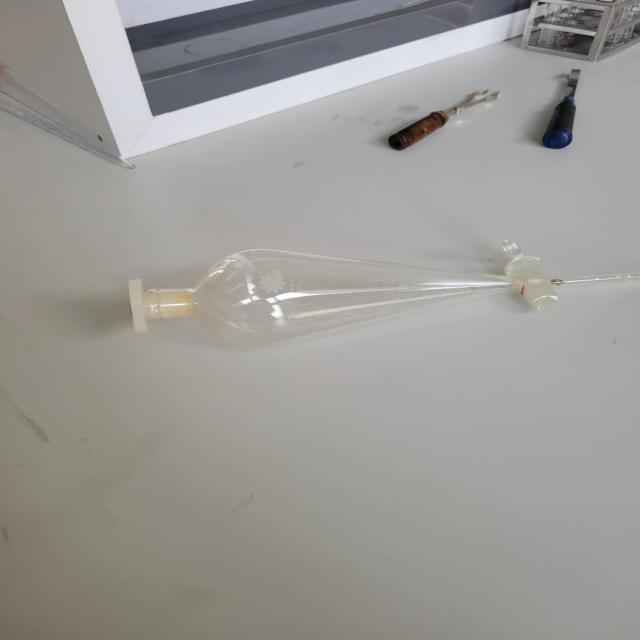Separating_Funnel: (98, 210, 640, 380)
